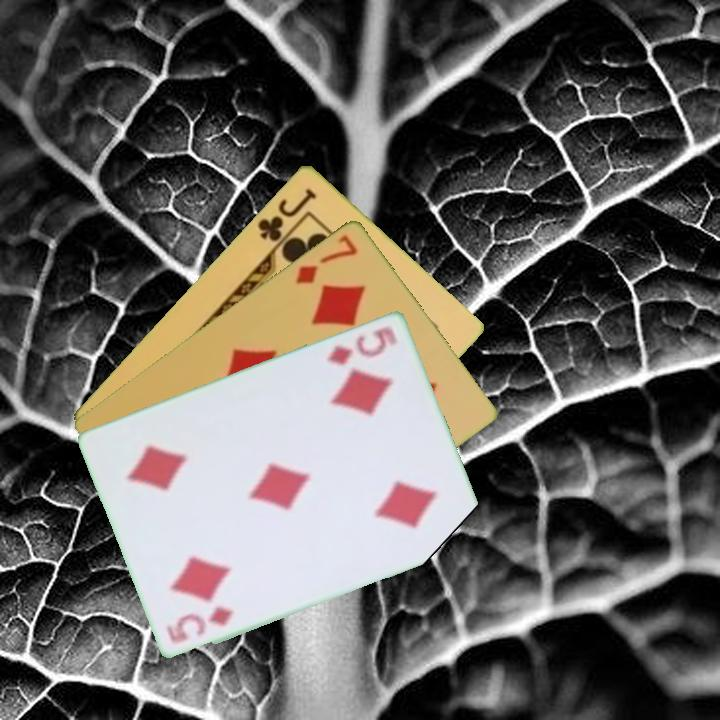5d: (323, 322, 400, 367), (163, 602, 237, 646)
7d: (292, 230, 361, 287)
Jc: (253, 184, 320, 244)
